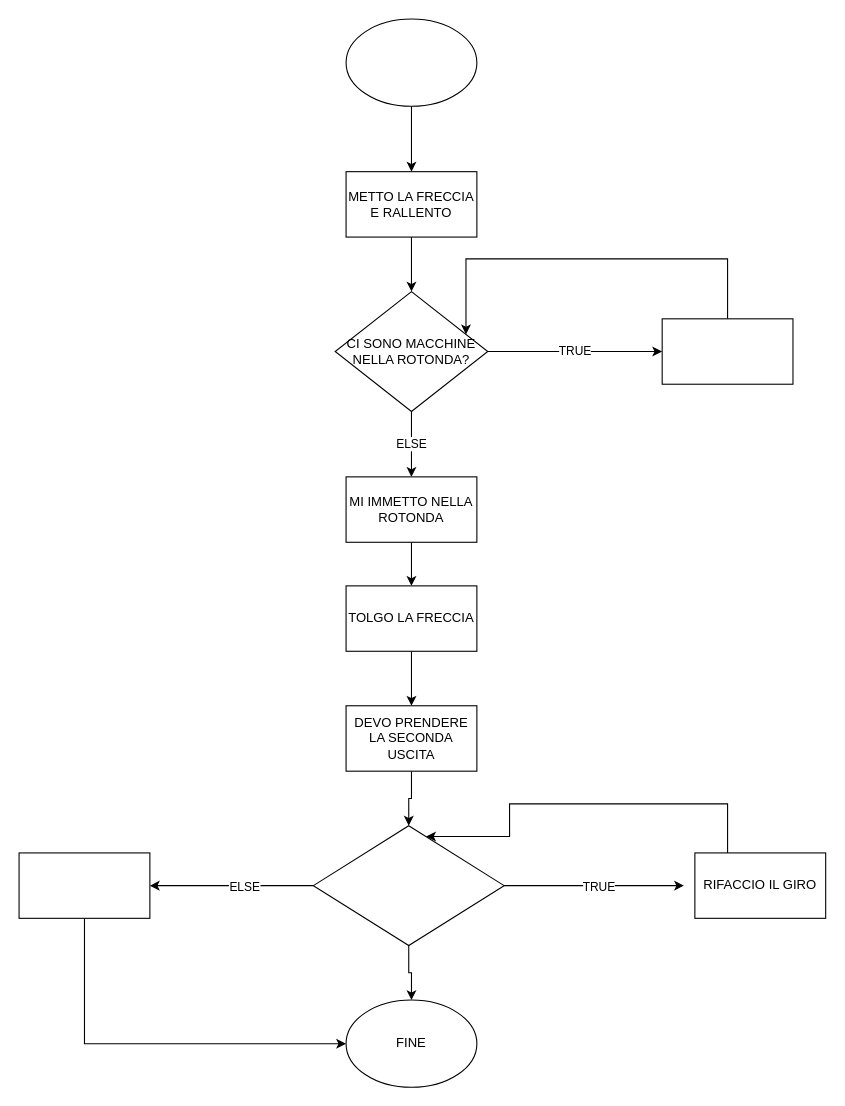
Image size: 845x1106. Some labels were removed from this diagram. The centre of each missing label's shape, as x and y in pixels:
CONTROLLO SE CI SONO MACCHINE ALLA MIA DESTRA: [408,885]
INIZIO: [411,62]
METTO LA FRECCIA E PRENDO L'USCITA: [84,885]
MI FERMO FINO A QUANDO NON FINISCONO LE MACCHINE: [727,351]
